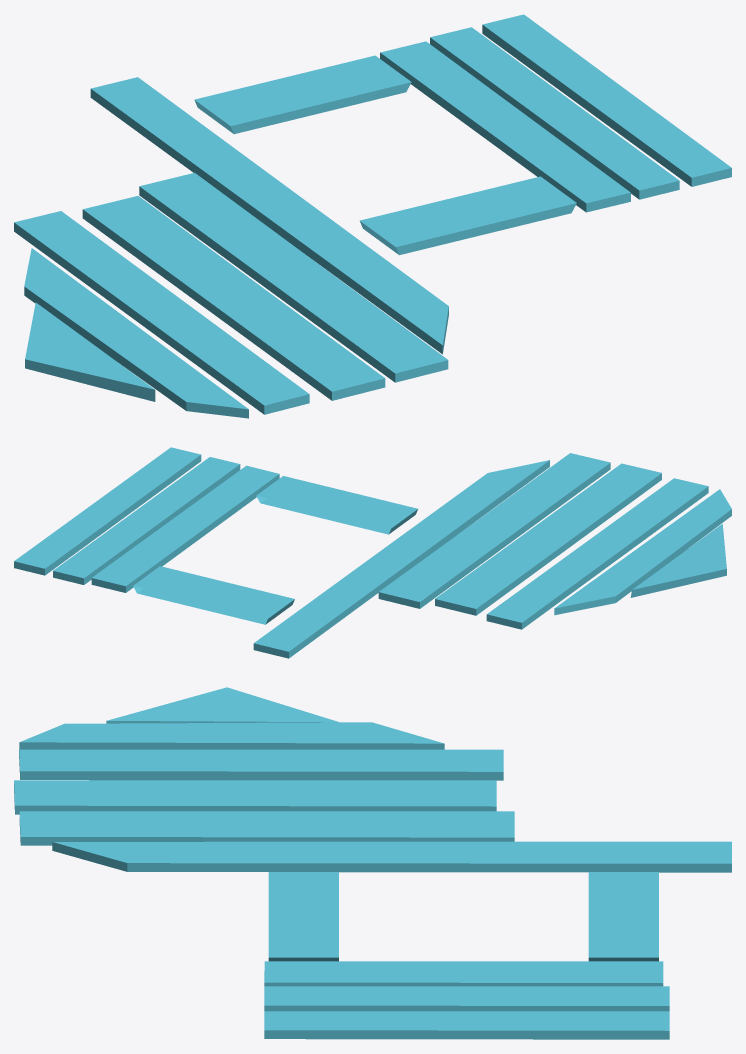
File: water4 .fbx
3 views of the same model, one above another, from view 1: azimuth 30°, elevation 25°; view 2: azimuth 150°, elevation 25°; view 3: azimuth 270°, elevation 25° (orthographic). The views are drawn at different scales.
Parts seen in each view (by area): view 1: Cube.040, Cube.049, Cube.044, Cube.045, Cube.041, Cube.050, Cube.042, Cube.024, Cube.047, Cube.048, Cube.025; view 2: Cube.040, Cube.049, Cube.044, Cube.045, Cube.041, Cube.050, Cube.042, Cube.024, Cube.047, Cube.048, Cube.025; view 3: Cube.040, Cube.049, Cube.044, Cube.045, Cube.050, Cube.042, Cube.024, Cube.041, Cube.047, Cube.048, Cube.025.
Part boxes in pixels (<box>): Cube.040: <box>90,77,448,354</box>; Cube.049: <box>139,172,448,382</box>; Cube.044: <box>82,196,385,400</box>; Cube.045: <box>14,211,309,414</box>; Cube.041: <box>380,41,630,212</box>; Cube.050: <box>482,14,731,186</box>; Cube.042: <box>430,27,679,199</box>; Cube.024: <box>24,248,248,418</box>; Cube.047: <box>360,176,576,255</box>; Cube.048: <box>194,55,411,134</box>; Cube.025: <box>25,302,155,401</box>; Cube.040: <box>253,460,549,658</box>; Cube.049: <box>378,453,610,608</box>; Cube.044: <box>435,463,661,615</box>; Cube.045: <box>486,478,708,629</box>; Cube.041: <box>91,465,279,592</box>; Cube.050: <box>14,447,201,575</box>; Cube.042: <box>53,457,240,584</box>; Cube.024: <box>554,489,731,615</box>; Cube.047: <box>256,476,417,534</box>; Cube.048: <box>133,566,294,624</box>; Cube.025: <box>630,524,726,597</box>; Cube.040: <box>52,841,731,872</box>; Cube.049: <box>19,811,514,845</box>; Cube.044: <box>14,780,496,814</box>; Cube.045: <box>19,749,503,780</box>; Cube.050: <box>264,1011,669,1039</box>; Cube.042: <box>264,986,669,1011</box>; Cube.024: <box>19,722,444,749</box>; Cube.041: <box>264,961,663,986</box>; Cube.047: <box>268,872,338,961</box>; Cube.048: <box>588,872,658,961</box>; Cube.025: <box>106,687,338,723</box>.
Size of the model in its own units: 269 by 5.07 by 238.
